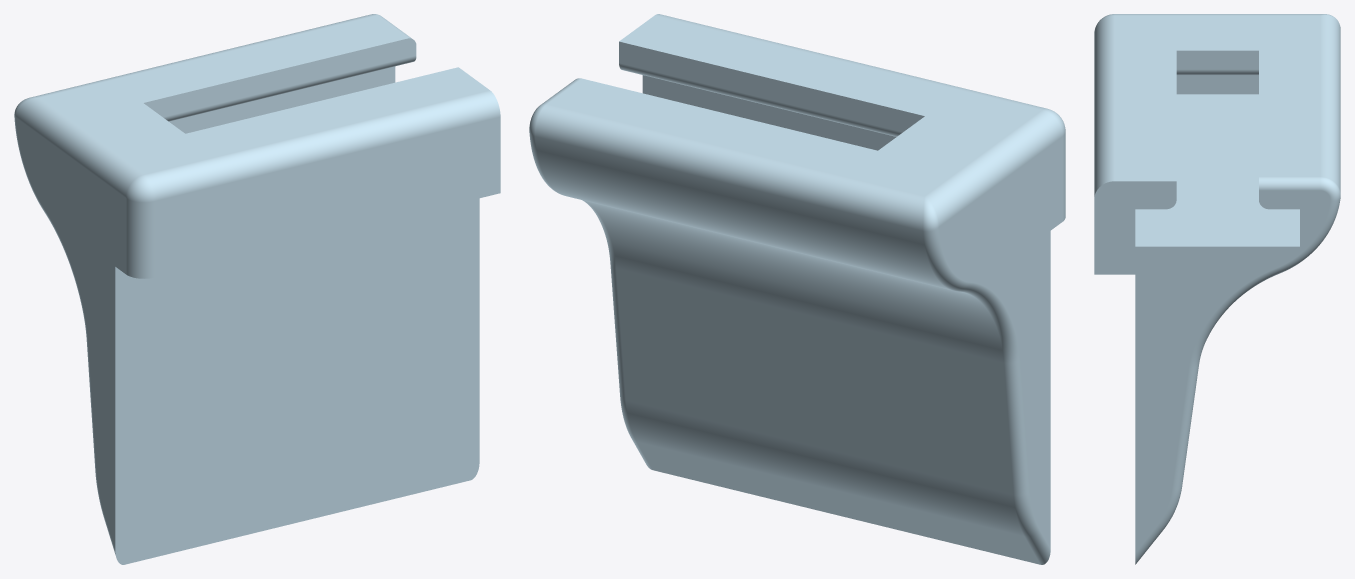
The model's file is hook-attachment-female.gltf.
3 renders of one model, left to right at view 1: azimuth 30°, elevation 25°; view 2: azimuth 150°, elevation 25°; view 3: azimuth 270°, elevation 25°, orthographic. The views are drawn at different scales.
Visible parts, largest first — view 1: connector; view 2: connector; view 3: connector.
Boxes of the visible parts, x1,y1,x2,y2 form: connector: [14, 14, 500, 564]; connector: [529, 14, 1065, 564]; connector: [1094, 14, 1340, 564].
Size of the model in its own units: 0.0508 by 0.0527 by 0.0304.
